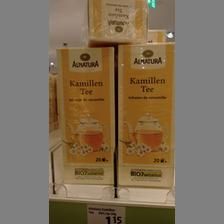Tee: (115, 41, 173, 187), (55, 46, 115, 187)
